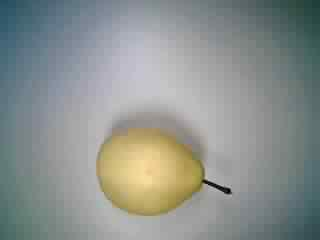pear: (87, 123, 239, 221)
